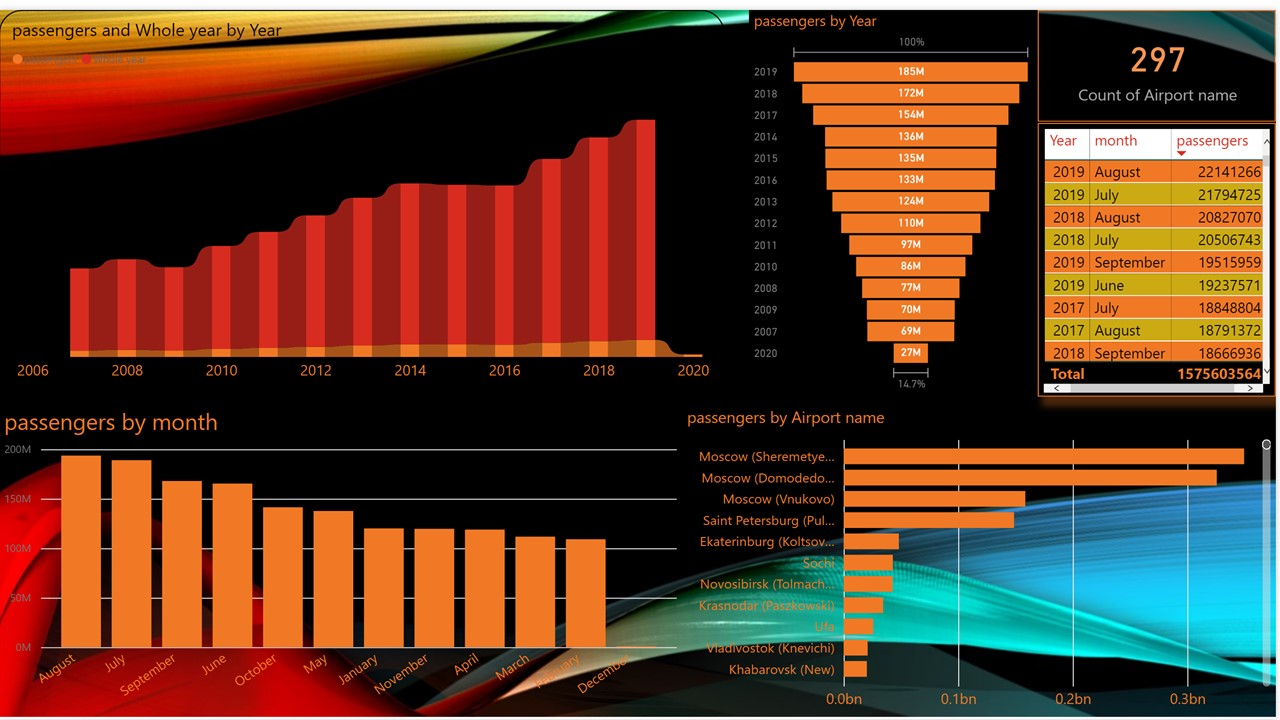

This screenshot's page, from the dashboard's own definition file:
{"tool":"powerbi","page":{"name":"Page 1","canvas":[1280,720],"ordinal":0},"visuals":[{"type":"clusteredBarChart","fields":{"Category":["russian_passenger_air_service_2.Airport name"],"Y":["Sum(russian_passenger_air_service_2.Value)"]},"box":[684.5,401.9,595,318.1],"z":0},{"type":"ribbonChart","fields":{"Category":["russian_passenger_air_service_2.Year"],"Y":["Sum(russian_passenger_air_service_2.Value)","Sum(russian_passenger_air_service_2.Whole year)"]},"box":[0,0,726.8,392.3],"z":1000},{"type":"tableEx","fields":{"Values":["russian_passenger_air_service_2.Year","russian_passenger_air_service_2.Attribute","Sum(russian_passenger_air_service_2.Value)"]},"box":[1041.5,114.3,238.5,278],"z":2000},{"type":"clusteredColumnChart","fields":{"Category":["russian_passenger_air_service_2.Attribute"],"Y":["Sum(russian_passenger_air_service_2.Value)"]},"box":[0,401.9,684.5,318.1],"z":4000},{"type":"card","fields":{"Values":["Count(russian_passenger_air_service_2.Airport name)"]},"box":[1040.9,0,238.6,113.6],"z":4001},{"type":"funnel","fields":{"Category":["russian_passenger_air_service_2.Year"],"Y":["Sum(russian_passenger_air_service_2.Value)"]},"box":[751.2,0,289.7,392],"z":4002}]}

Visuals, with their boxes in screenshot pixels (x1, y1, x2, y2), scaled from the page's 1280x720 canvas onto the 1280x720 screenshot:
clusteredBarChart - russian_passenger_air_service_2.Airport name x Sum(russian_passenger_air_service_2.Value): [684,402,1279,719]
ribbonChart - russian_passenger_air_service_2.Year x Sum(russian_passenger_air_service_2.Value): [0,0,727,392]
tableEx - russian_passenger_air_service_2.Year x russian_passenger_air_service_2.Attribute: [1042,114,1279,392]
clusteredColumnChart - russian_passenger_air_service_2.Attribute x Sum(russian_passenger_air_service_2.Value): [0,402,684,719]
card - Count(russian_passenger_air_service_2.Airport name): [1041,0,1279,114]
funnel - russian_passenger_air_service_2.Year x Sum(russian_passenger_air_service_2.Value): [751,0,1041,392]
